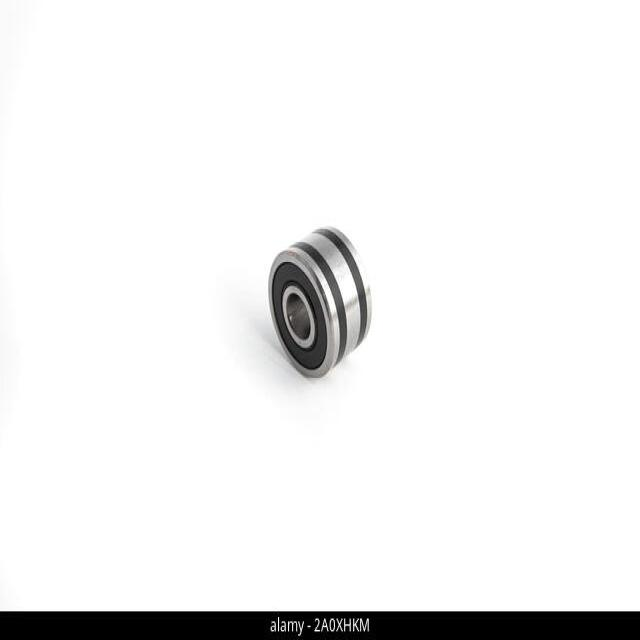Bearing: (262, 218, 374, 380)
